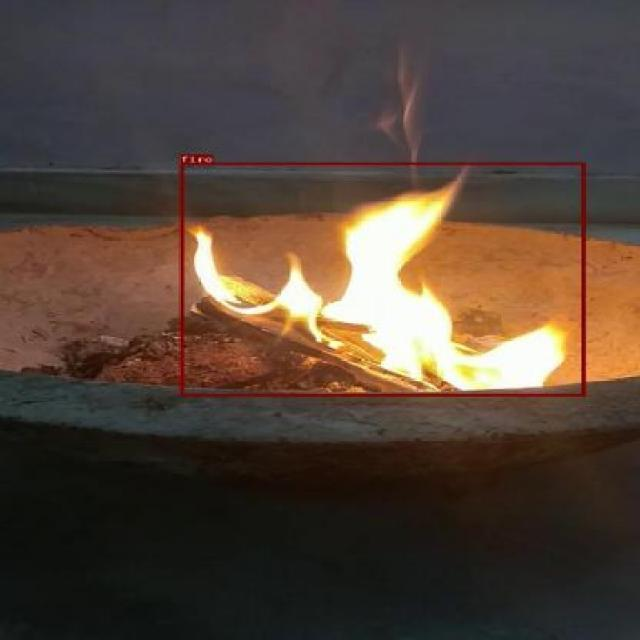Fire: (179, 162, 584, 396)
